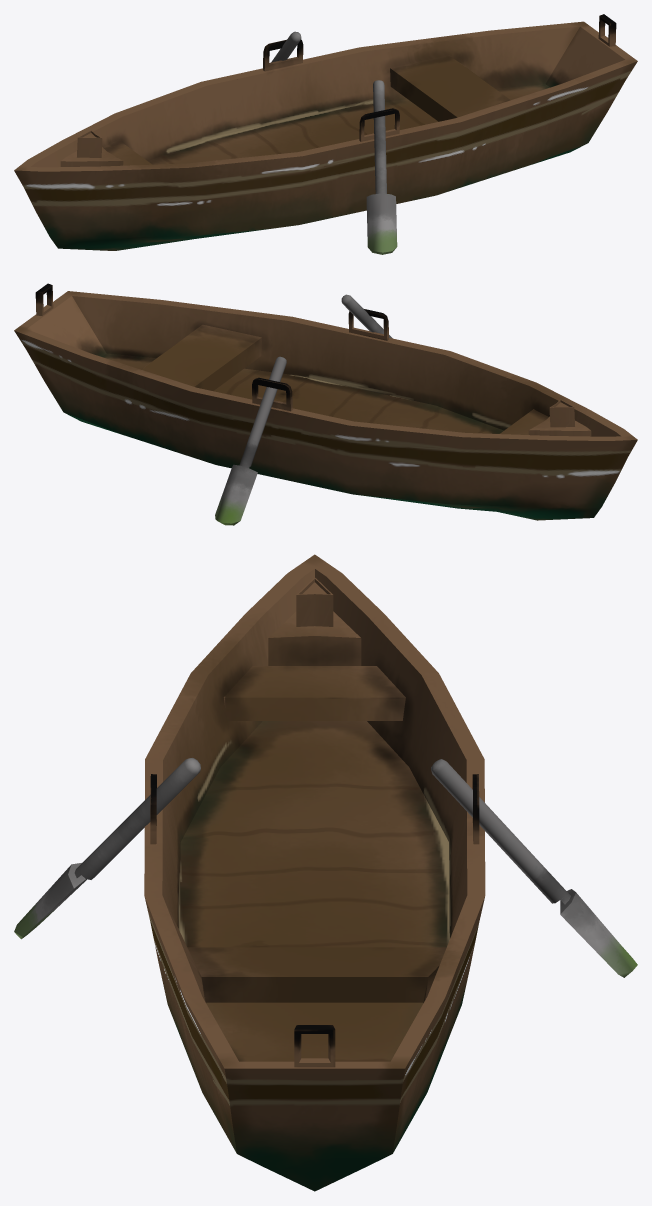
File: boat.glb
3 views of the same model, one above another, from view 1: azimuth 30°, elevation 25°; view 2: azimuth 150°, elevation 25°; view 3: azimuth 270°, elevation 25° (orthographic). The views are drawn at different scales.
Parts seen in each view (by area): view 1: Plane.001_tekne_0, Cylinder.009_krek_0; view 2: Plane.001_tekne_0, Cylinder.009_krek_0; view 3: Plane.001_tekne_0, Cylinder.009_krek_0.
Part boxes in pixels (<box>): Plane.001_tekne_0: <box>14,14,637,250</box>; Cylinder.009_krek_0: <box>271,31,397,254</box>; Plane.001_tekne_0: <box>14,283,637,520</box>; Cylinder.009_krek_0: <box>215,294,392,525</box>; Plane.001_tekne_0: <box>144,554,485,1191</box>; Cylinder.009_krek_0: <box>14,758,637,977</box>.
Bounding box in the file's own units: 0.9547 × 0.237 × 0.5174.
2 materials, 2 textured.
